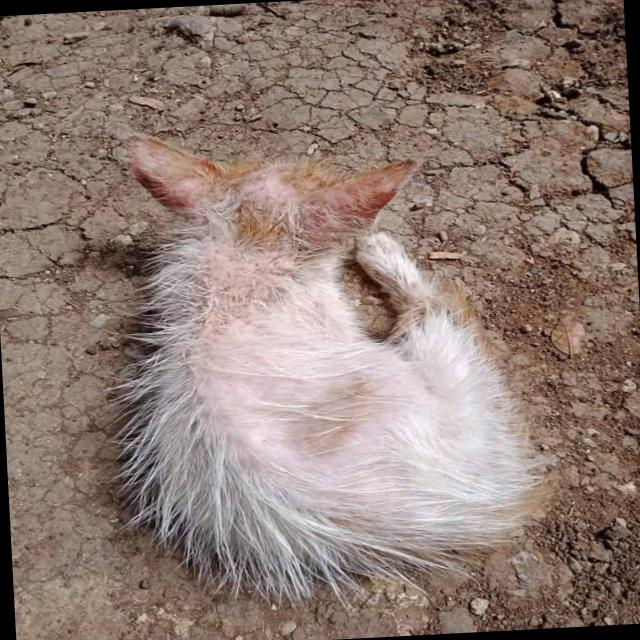Mange: (178, 358, 265, 421), (204, 235, 298, 286), (238, 166, 308, 213), (184, 304, 248, 345)
